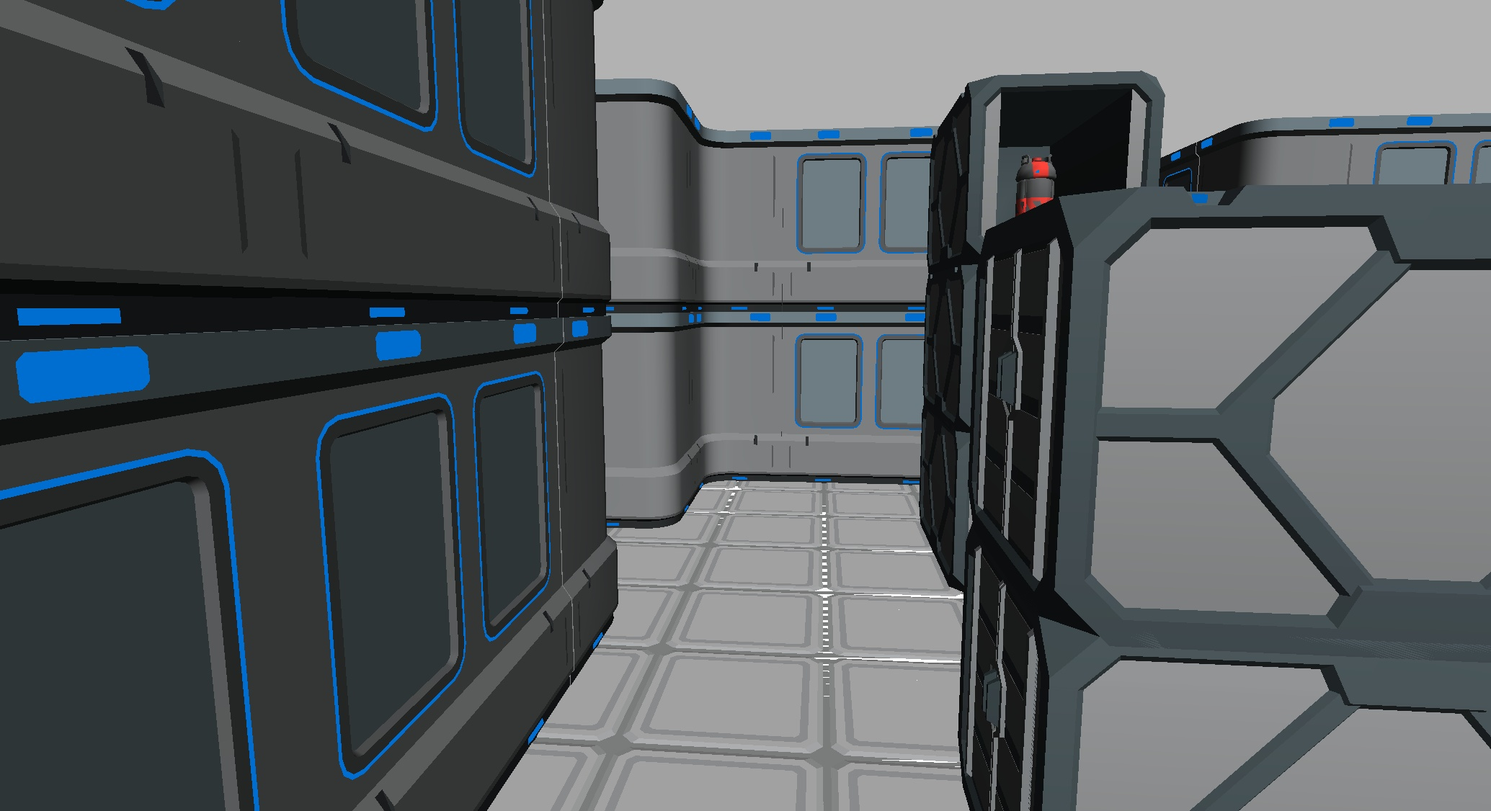red_barrel: (1017, 156, 1056, 214)
